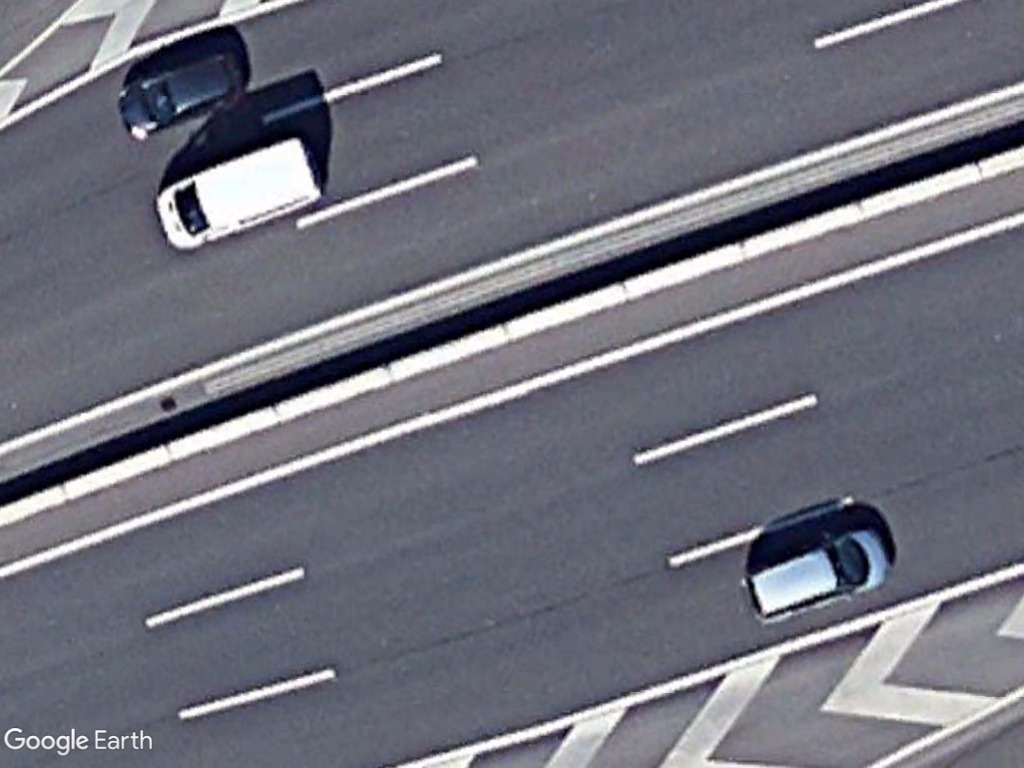car: (739, 526, 896, 622), (117, 44, 247, 142)
van: (146, 133, 326, 253)
